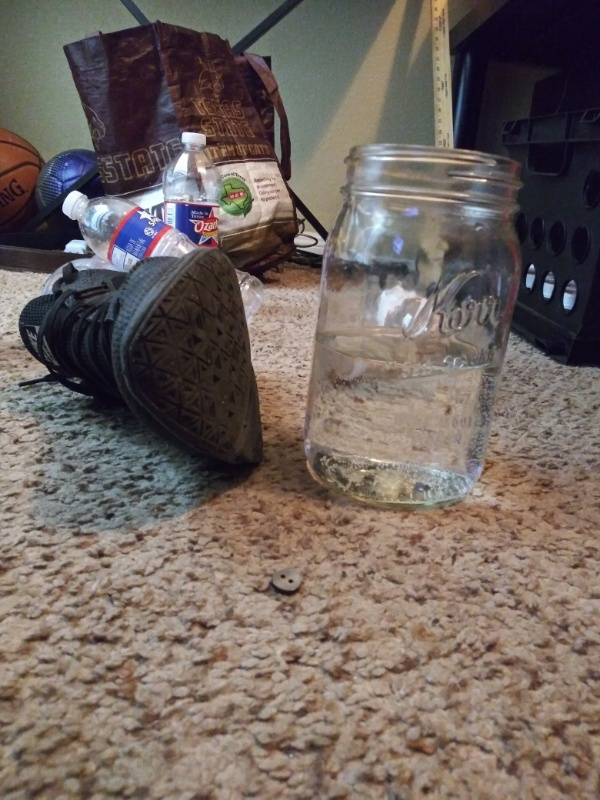bottle: (56, 184, 268, 334), (148, 124, 225, 269)
